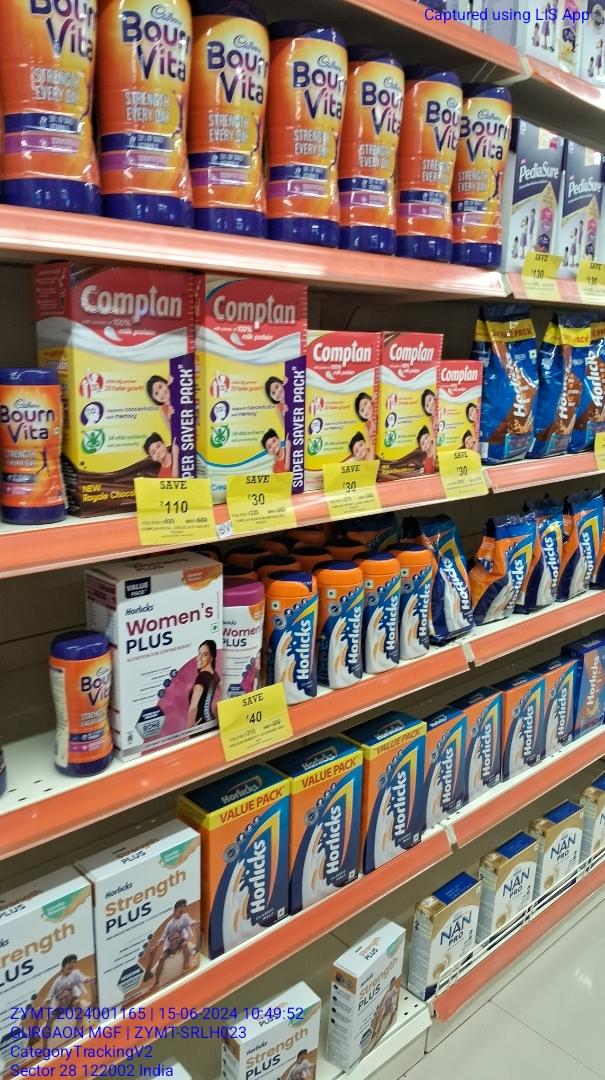BOURN_VITA_1_KG_JAR: (100, 0, 191, 227), (194, 0, 267, 239), (269, 20, 343, 246), (346, 46, 400, 256), (456, 69, 513, 267), (403, 65, 455, 258)
BOURN_VITA_200_G_JAR: (2, 368, 61, 523), (64, 636, 115, 777)
COMPLAN_CHOCOLATE_1_KG_PACK: (72, 261, 197, 511)
COMPLAN_CHOCOLATE_500_GMS_PACK: (381, 330, 438, 482)
COMPLAN_KESAR_BADAM_500_GMS_PACK: (308, 329, 379, 472)
HORLICK_CHOCOLATE_750_G_POUCH: (482, 305, 541, 463)
HORLICK_CLASSIC_MALT_500_G_JAR: (266, 569, 320, 703), (323, 558, 363, 688), (364, 553, 403, 677), (404, 538, 430, 662)
